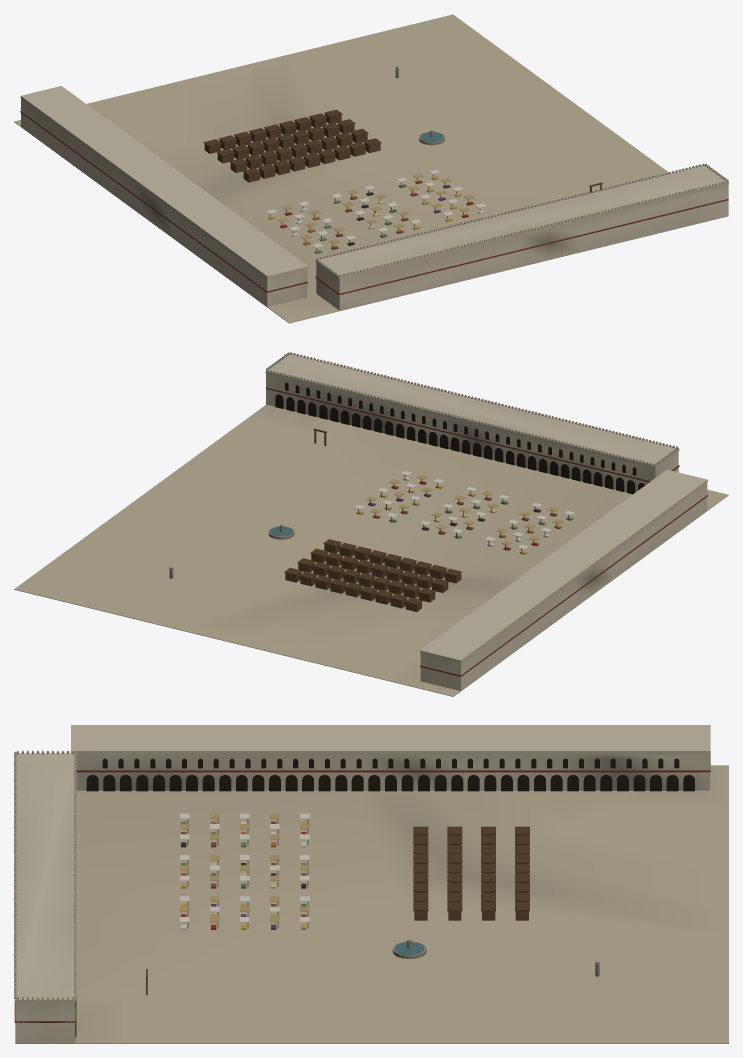
Rendered from plaza-mayor.glb.
3 renders of one model, top to bottom at view 1: azimuth 30°, elevation 25°; view 2: azimuth 150°, elevation 25°; view 3: azimuth 270°, elevation 25°, orthographic. The views are drawn at different scales.
Visible parts, largest first — view 1: p0_square, p1_portales, p2_market; view 2: p0_square, p1_portales, p2_market; view 3: p0_square, p1_portales, p2_market.
Part boxes in pixels (x1,y1,x2,y2): p0_square: (14,14,727,323); p1_portales: (20,86,728,310); p2_market: (203,66,602,253); p0_square: (14,404,728,696); p1_portales: (265,352,707,690); p2_market: (169,428,574,611); p0_square: (15,765,728,1043); p1_portales: (14,725,710,1043); p2_market: (146,813,599,995).
Bounding box in the file's own units: 176 × 13.77 × 190.
